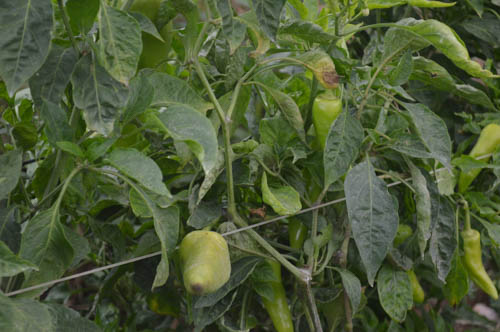ChiliPepper: (177, 230, 235, 296), (390, 224, 427, 301), (459, 230, 498, 300), (286, 175, 320, 251), (255, 260, 291, 331), (309, 96, 342, 157), (465, 123, 498, 166)
